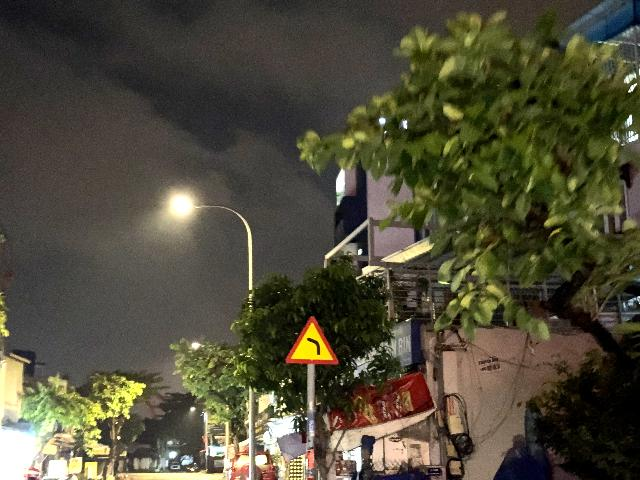cho-ngoat-nguy-hiem-ben-trai: (285, 316, 338, 365)
